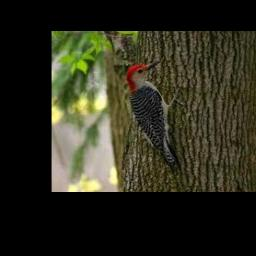Woodpecker: (126, 60, 184, 167)
